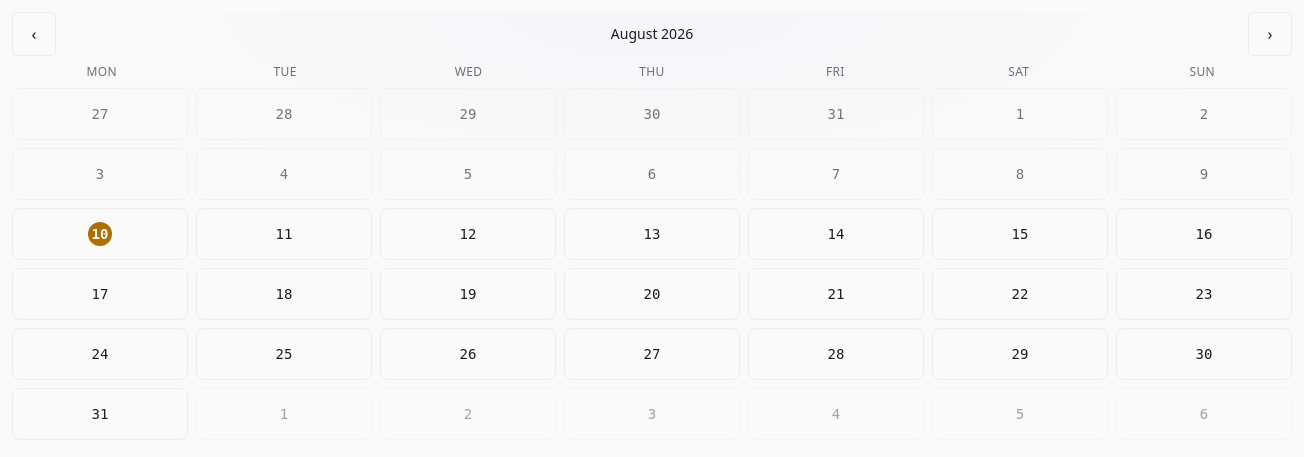
Test: TripsCalendar › changes to the next month on a horizontal swipe left past the threshold
The image size is (1304, 457).
Check: the text "August 2026" is shown, box 611,24 -> 693,44
Press the mouse on the element with test id "calendar-grid" at coordinates (652, 264), box 12,88 -> 1292,440
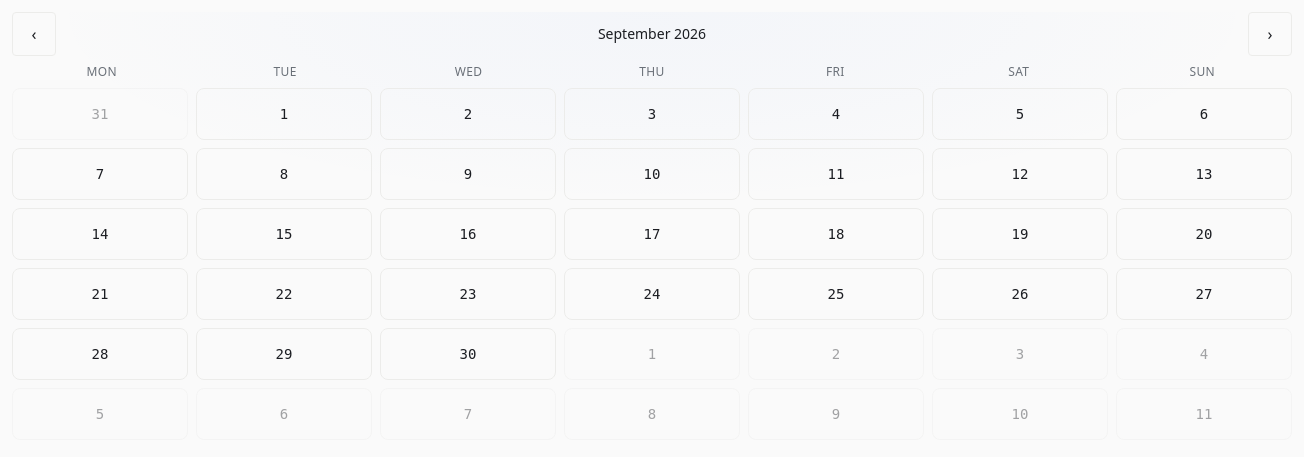
Check: the text "September 2026" is shown, box 598,24 -> 706,44
